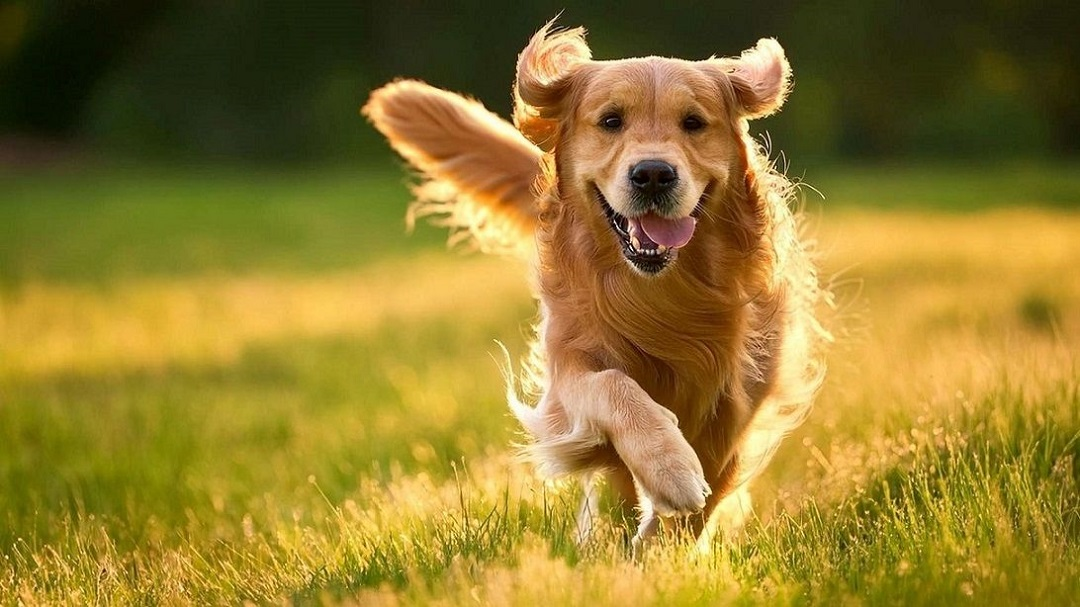dog: (370, 41, 849, 535)
